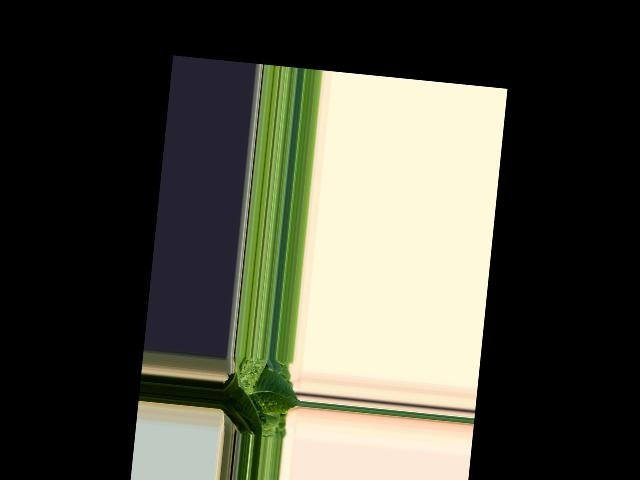lettuce: (218, 362, 296, 437)
